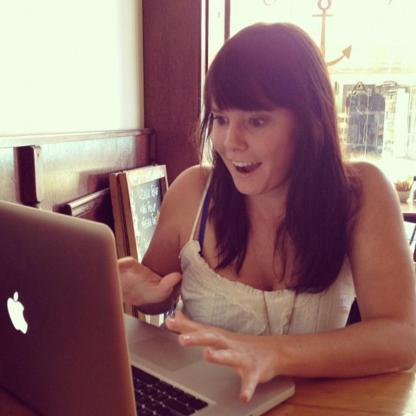board: (0, 200, 295, 416)
